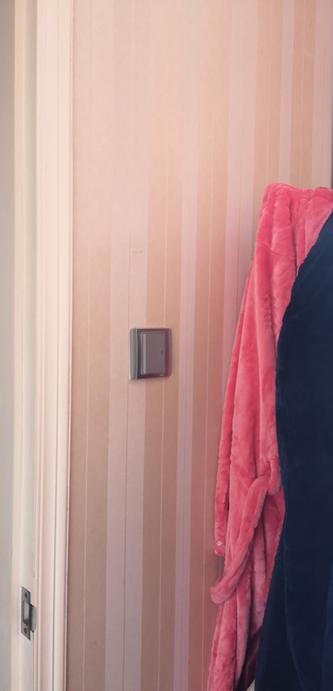switch: (135, 328, 172, 380)
